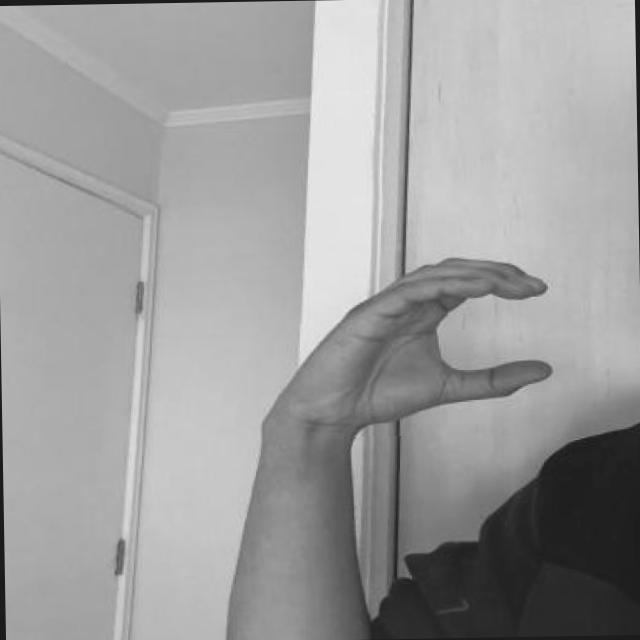C: (275, 251, 560, 438)
